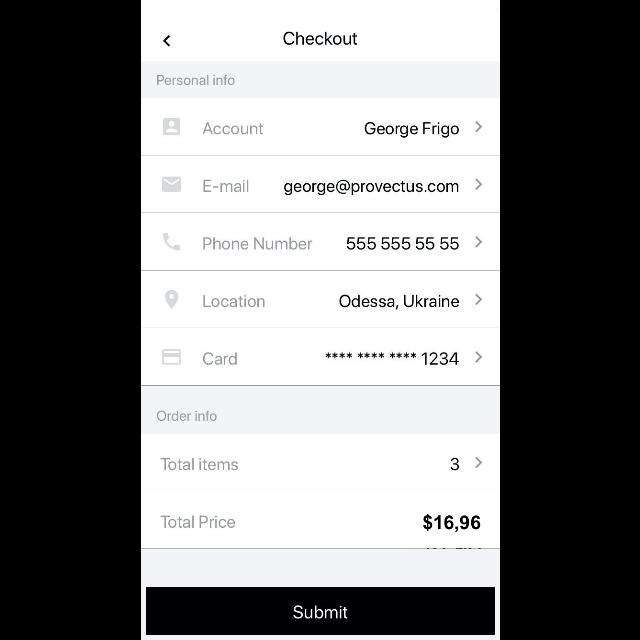icon: (162, 118, 180, 136), (162, 176, 180, 192), (165, 290, 178, 310), (162, 350, 180, 364), (474, 294, 482, 306), (474, 457, 482, 468), (474, 121, 482, 132), (163, 36, 171, 46), (474, 352, 482, 362), (474, 238, 482, 248), (474, 180, 482, 190)
image: (162, 233, 180, 250)
text: (284, 180, 458, 196), (338, 292, 459, 310), (346, 235, 458, 251), (325, 352, 459, 364), (364, 122, 458, 138), (202, 238, 312, 250), (422, 514, 480, 532), (283, 31, 357, 45), (160, 458, 240, 470), (156, 74, 234, 86), (160, 516, 237, 528), (202, 123, 264, 135), (203, 295, 265, 307), (156, 411, 218, 421), (202, 180, 248, 192), (203, 353, 237, 365), (449, 458, 458, 470)
textbutton: (145, 588, 495, 634)
